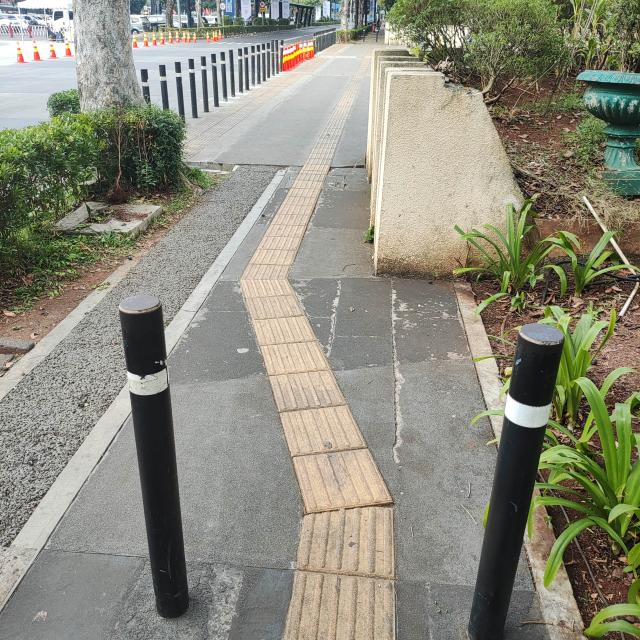lurus: (230, 273, 415, 640)
